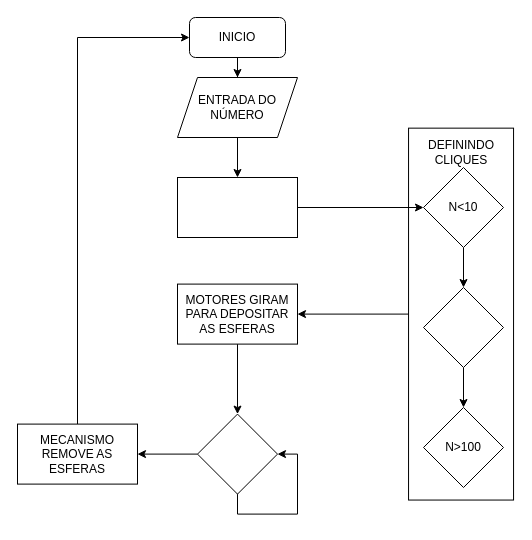
Some shapes in this 532 by 540 pixel diagram are drawn without their labels. Each missing label, with the centre of its shape:
"ALGORITIMO DEFINE O NÚMERO DE ROTAÇÕES" goes at pixel 237 207.
"BOTÃO LIMPADOR" goes at pixel 237 453.
"N>10" goes at pixel 463 327.
